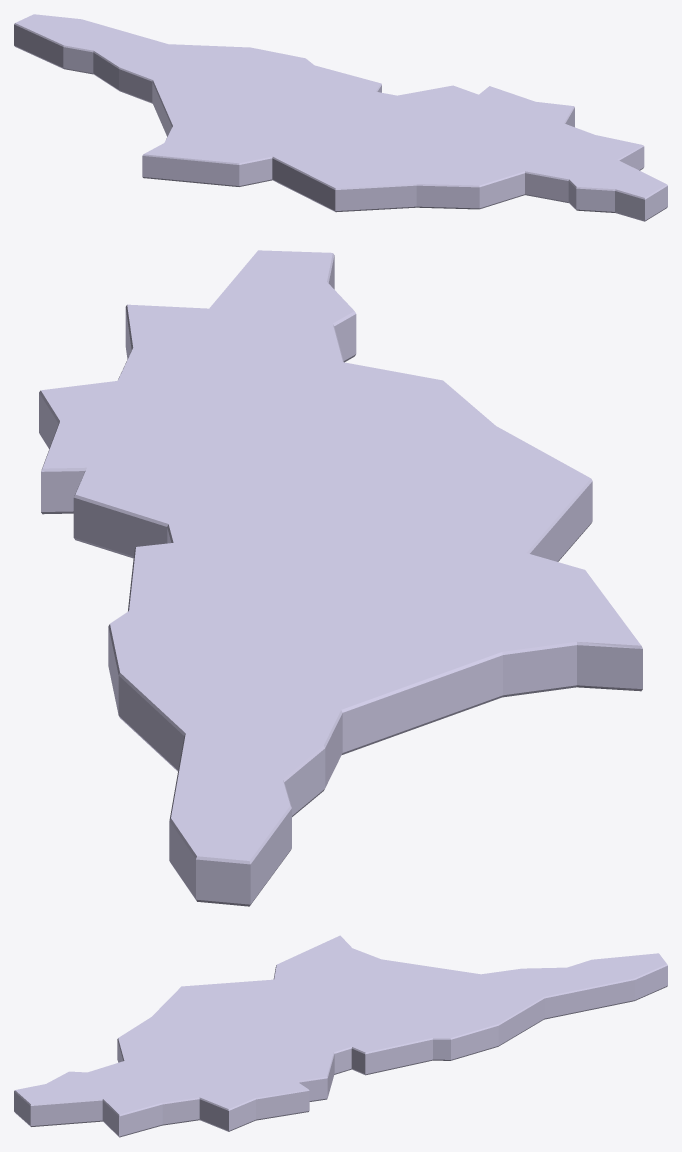
The picture shows the model from 3 angles, top to bottom: view 1: azimuth 30°, elevation 25°; view 2: azimuth 150°, elevation 25°; view 3: azimuth 270°, elevation 25°; orthographic projection. The views are drawn at different scales.
Bounding box in the file's own units: 1.15 × 0.068 × 1.77.
